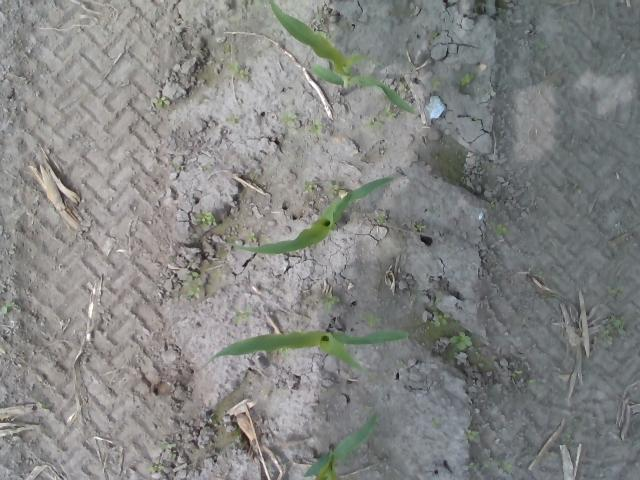Maize: (268, 0, 418, 116), (226, 174, 394, 256), (200, 308, 411, 373), (304, 414, 376, 480)
Weeds: (600, 316, 624, 340), (448, 330, 472, 351), (183, 270, 200, 298), (232, 303, 254, 323), (150, 90, 172, 107), (226, 63, 248, 79), (317, 294, 338, 310), (200, 210, 217, 227), (366, 312, 384, 328), (462, 428, 481, 443), (460, 72, 474, 89), (308, 119, 322, 136), (0, 302, 16, 316), (434, 312, 450, 326), (283, 112, 298, 126), (148, 464, 166, 474), (496, 223, 508, 236), (382, 110, 396, 120), (368, 120, 383, 129), (502, 463, 514, 473), (304, 184, 318, 192), (245, 231, 256, 241), (430, 78, 440, 89), (375, 214, 385, 224), (160, 441, 172, 449), (416, 224, 426, 230)
